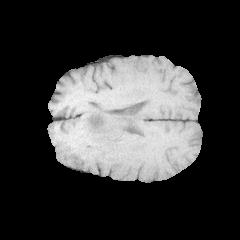glioma: (66, 104, 140, 153)
